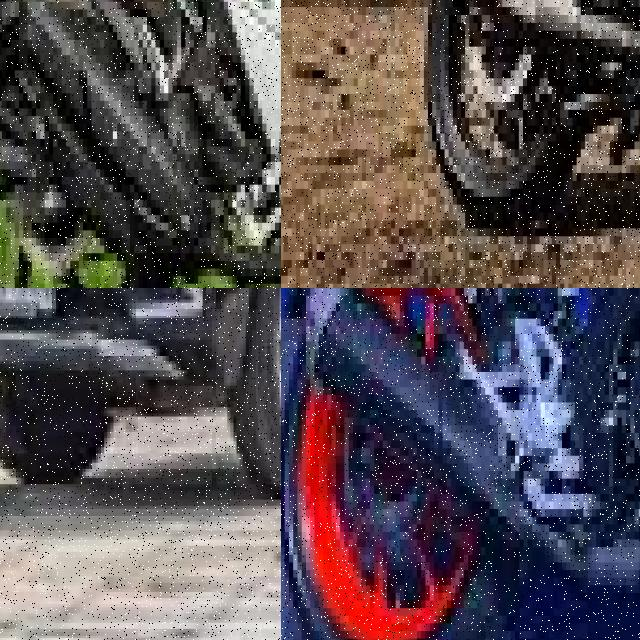bike: (281, 288, 640, 640), (0, 0, 281, 288), (411, 0, 640, 268)
car: (0, 288, 281, 493)
